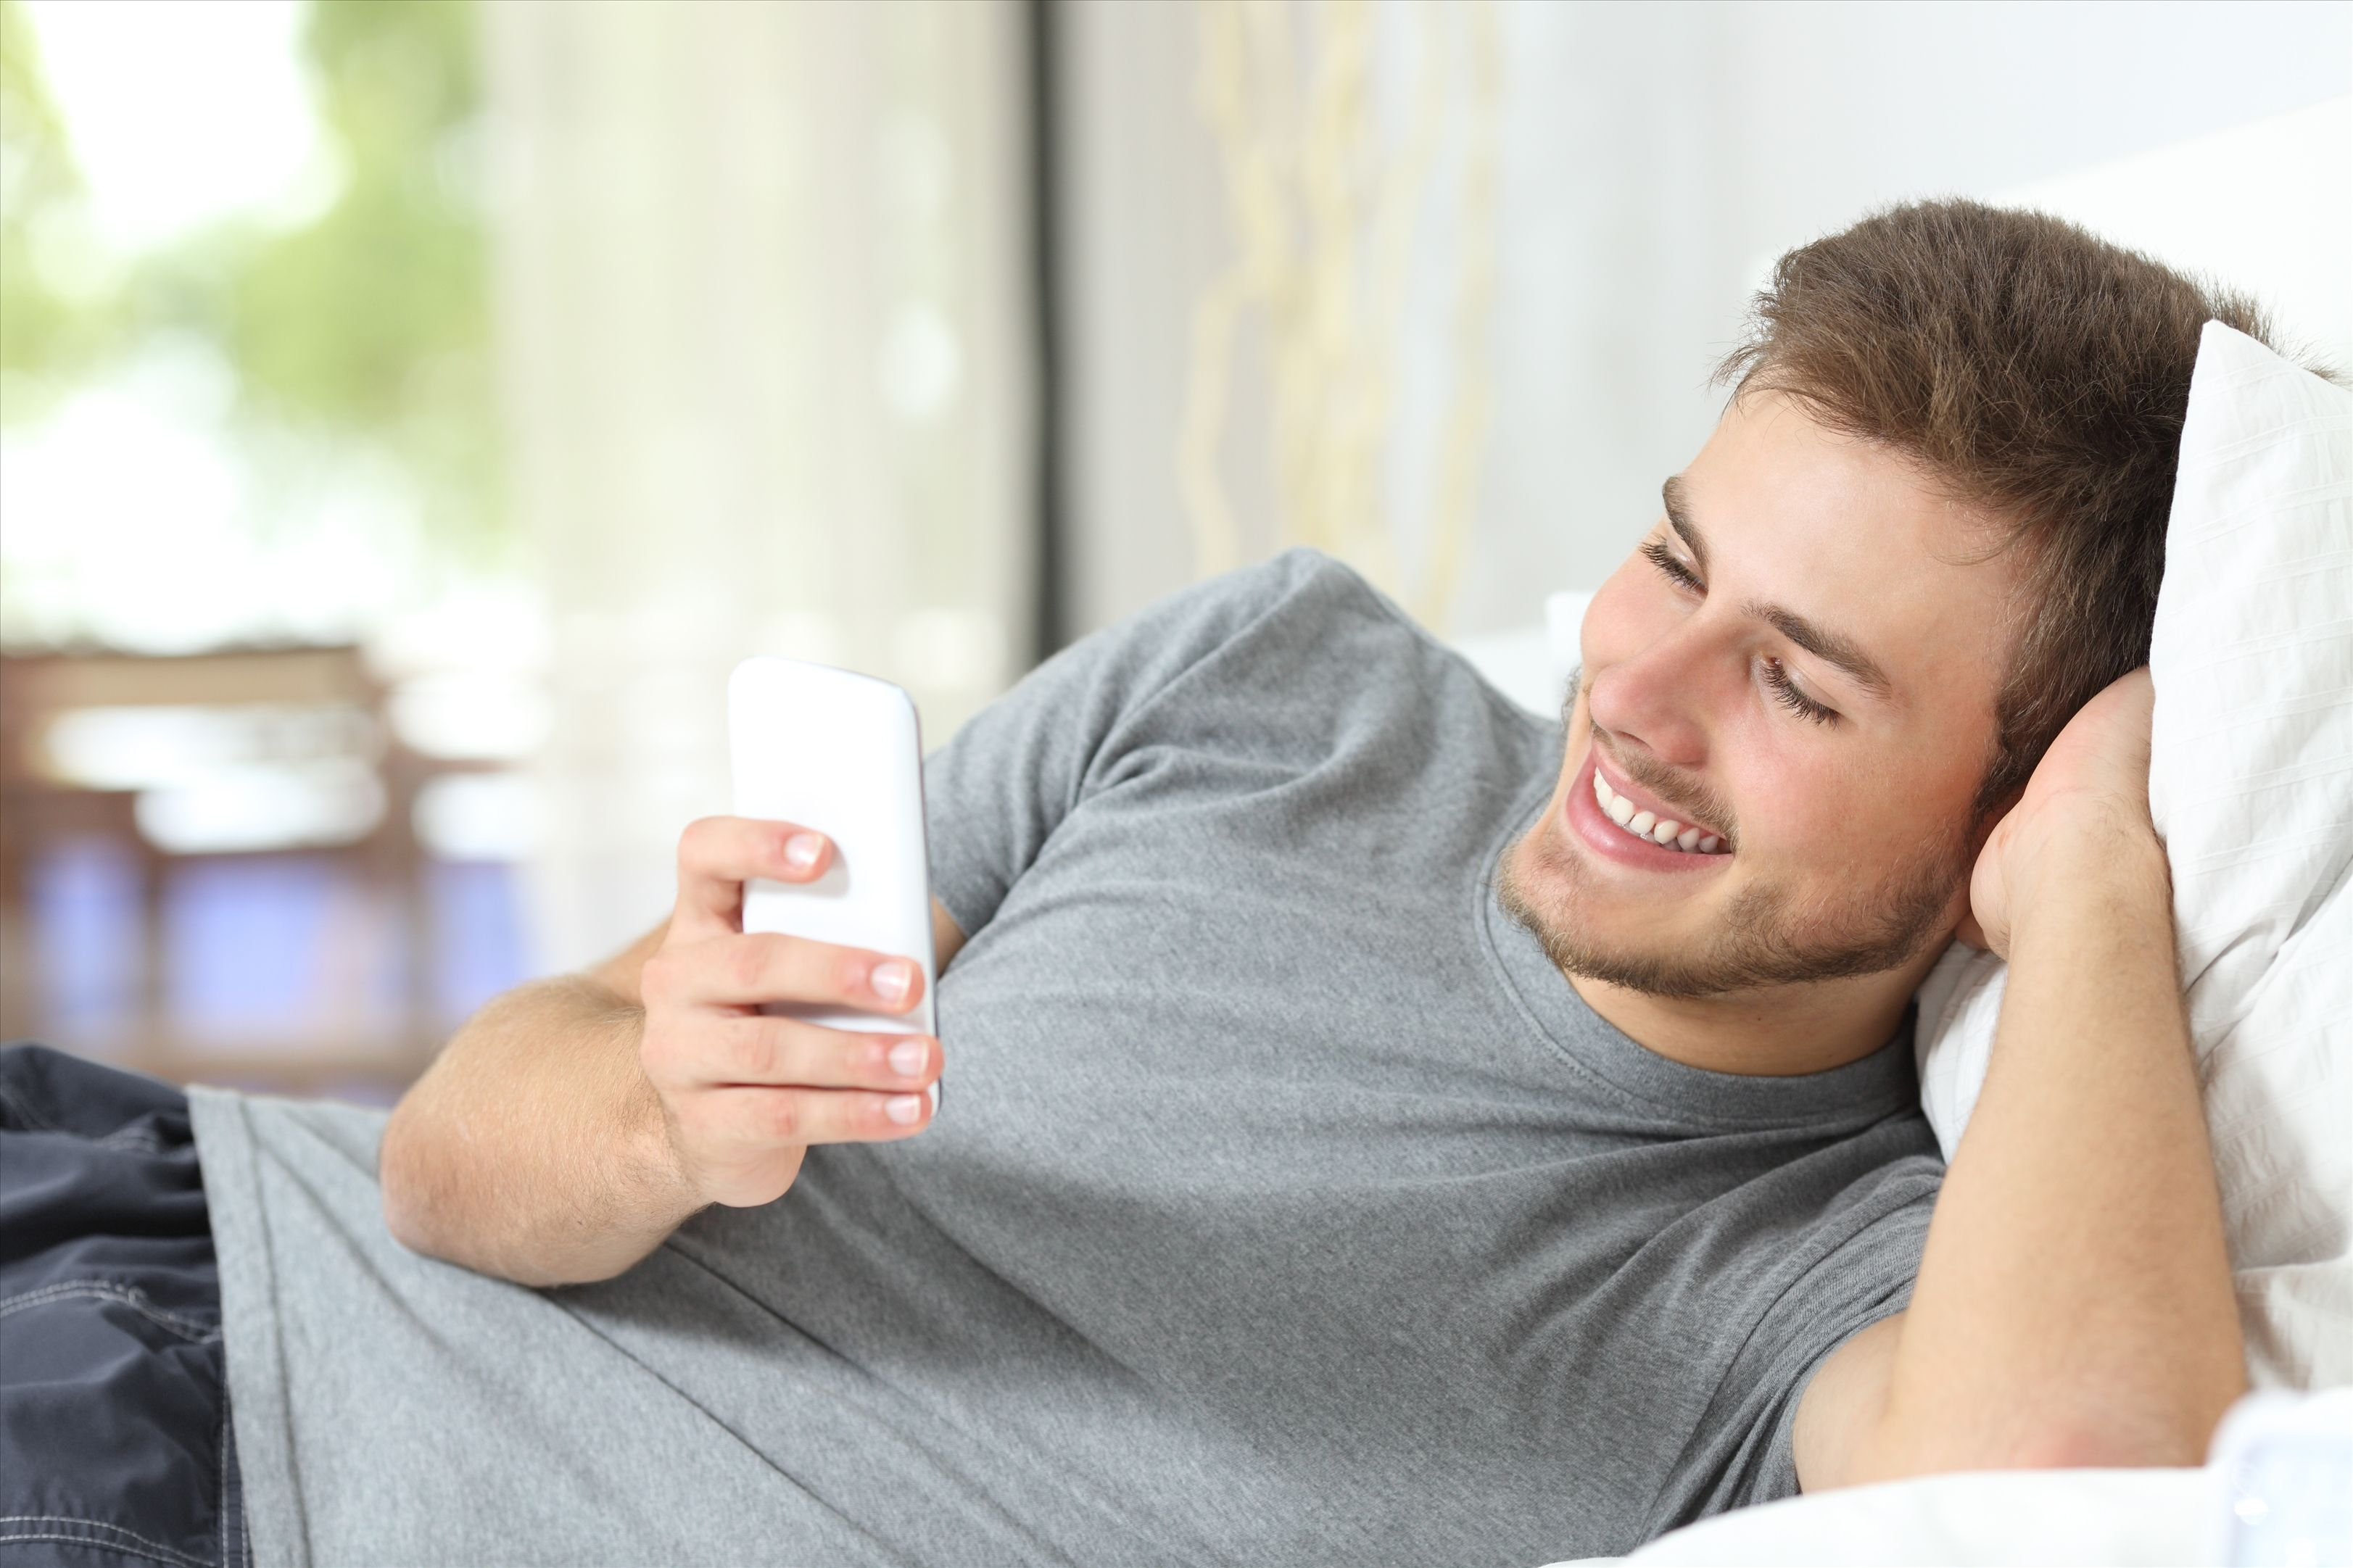reading: (586, 612, 987, 1246)
